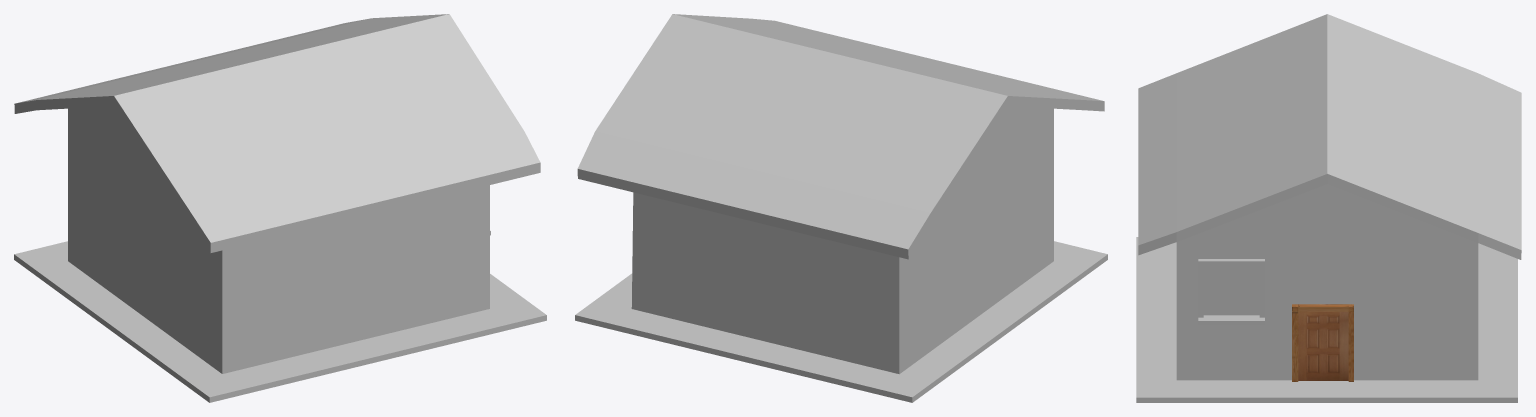
Rendered from casaLvl1.fbx.
3 views of the same model, side by side, from view 1: azimuth 30°, elevation 25°; view 2: azimuth 150°, elevation 25°; view 3: azimuth 270°, elevation 25° (orthographic). The views are drawn at different scales.
Visible parts, largest first — view 1: Cube; view 2: Cube; view 3: Cube, Cube.002, Plane.003.
Boxes of the visible parts, x1=… form: Cube: x1=14, y1=14, x2=546, y2=402; Cube: x1=575, y1=14, x2=1107, y2=402; Cube: x1=1136, y1=14, x2=1521, y2=402; Cube.002: x1=1292, y1=304, x2=1353, y2=381; Plane.003: x1=1198, y1=259, x2=1264, y2=324.
Size of the model in its own units: 252 by 168 by 255.
